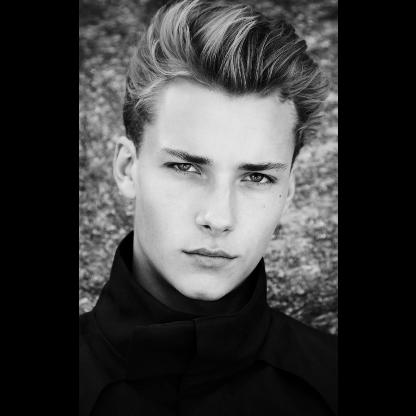Male: (112, 72, 294, 302)
